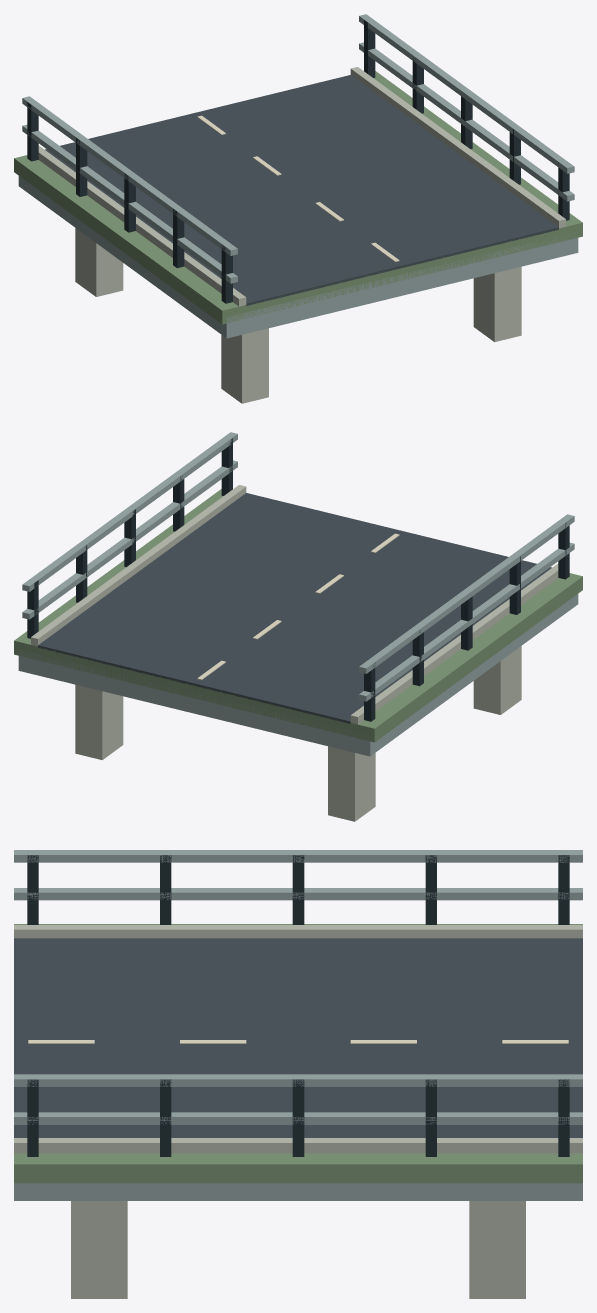
Rendered from road-bridge.glb.
3 views of the same model, one above another, from view 1: azimuth 30°, elevation 25°; view 2: azimuth 150°, elevation 25°; view 3: azimuth 270°, elevation 25° (orthographic). The views are drawn at different scales.
Parts seen in each view (by area): view 1: RoadBridge_asphalt, RoadBridge_steel, RoadBridge_curb, RoadBridge_grass, RoadBridge_dark, RoadBridge_line; view 2: RoadBridge_asphalt, RoadBridge_steel, RoadBridge_curb, RoadBridge_grass, RoadBridge_dark, RoadBridge_line; view 3: RoadBridge_asphalt, RoadBridge_steel, RoadBridge_curb, RoadBridge_grass, RoadBridge_dark, RoadBridge_line.
Part boxes in pixels (x1,y1,x2,y2): RoadBridge_asphalt: (45,75,558,305); RoadBridge_steel: (18,14,578,338); RoadBridge_curb: (38,67,565,403); RoadBridge_grass: (14,71,582,324); RoadBridge_dark: (27,20,569,303); RoadBridge_line: (197,115,399,261); RoadBridge_asphalt: (38,493,551,723); RoadBridge_steel: (18,432,578,756); RoadBridge_curb: (31,485,558,821); RoadBridge_grass: (14,489,582,742); RoadBridge_dark: (27,438,569,721); RoadBridge_line: (197,533,399,679); RoadBridge_asphalt: (14,938,582,1137); RoadBridge_steel: (14,850,582,1200); RoadBridge_curb: (14,925,582,1298); RoadBridge_grass: (14,924,582,1183); RoadBridge_dark: (27,855,569,1156); RoadBridge_line: (28,1040,568,1043).
Size of the model in its own units: 6 by 2.8 by 6.
